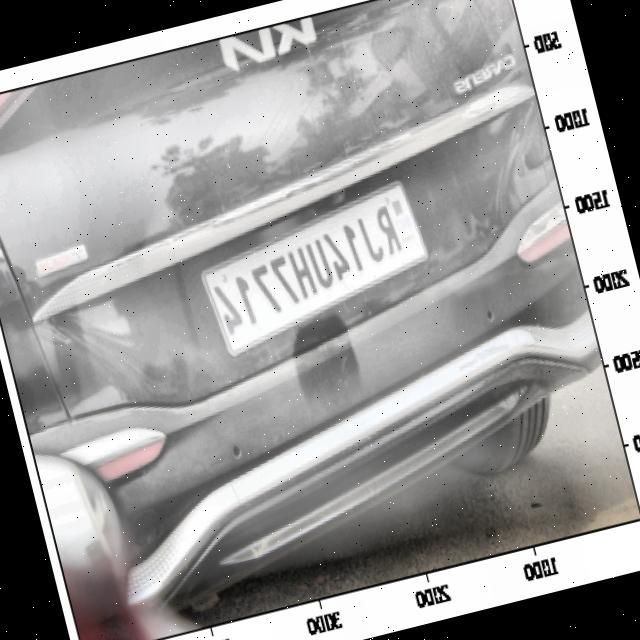license_plate: (198, 191, 418, 348)
